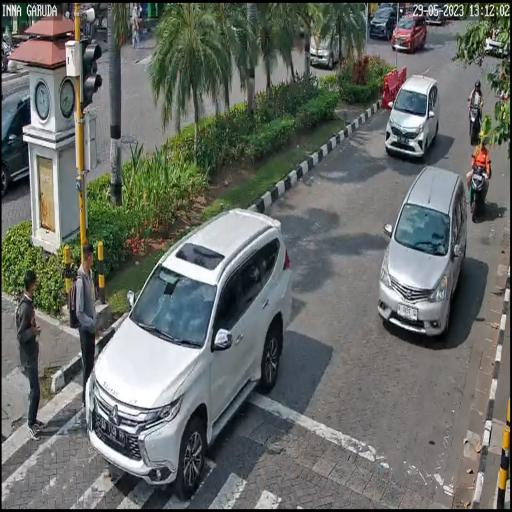mobil: (83, 208, 288, 498), (379, 164, 465, 337), (385, 74, 438, 156), (392, 12, 426, 55)
motor: (468, 154, 490, 218), (466, 94, 483, 142)
